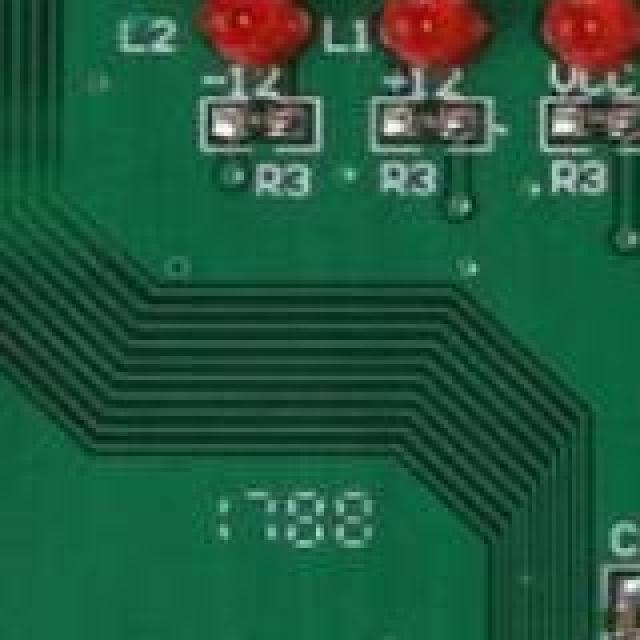LED: (204, 0, 308, 72), (536, 0, 640, 72), (380, 0, 476, 68)
capacitor: (596, 572, 640, 640)
resistor: (552, 100, 640, 152), (216, 108, 310, 150), (384, 108, 478, 148)
